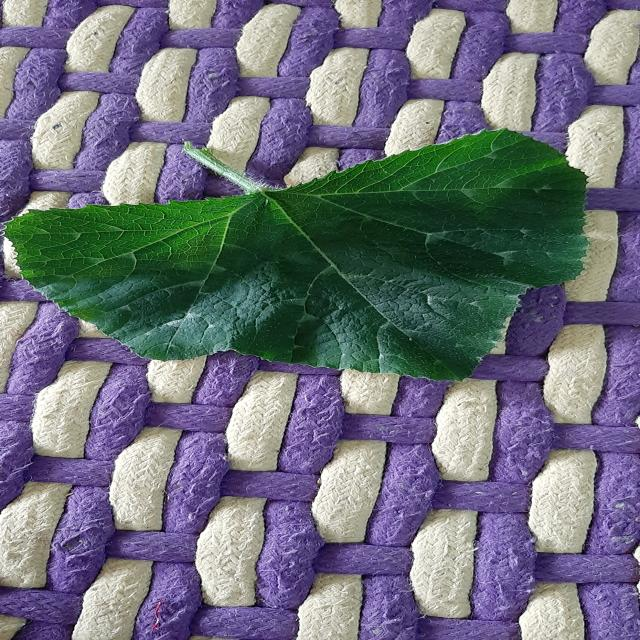pumpkin: (5, 130, 588, 380)
